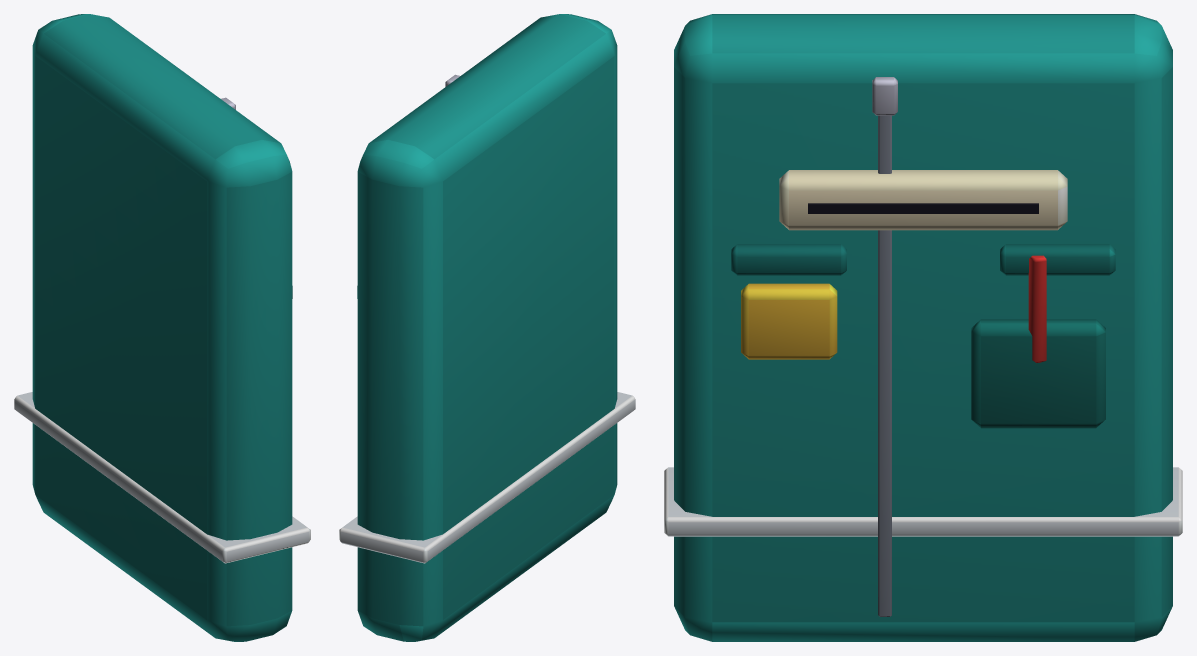
Rendered from SM_Costume_WorkClothes.fbx.
3 views of the same model, side by side, from view 1: azimuth 30°, elevation 25°; view 2: azimuth 150°, elevation 25°; view 3: azimuth 270°, elevation 25° (orthographic). The views are drawn at different scales.
Parts seen in each view (by area): view 1: SM_Costume_WorkClothes; view 2: SM_Costume_WorkClothes; view 3: SM_Costume_WorkClothes.
Part boxes in pixels (bbox=[...]): SM_Costume_WorkClothes: bbox=[14, 14, 310, 641]; SM_Costume_WorkClothes: bbox=[339, 14, 635, 641]; SM_Costume_WorkClothes: bbox=[664, 14, 1182, 641].
Size of the model in its own units: 15.86 by 70.04 by 54.06.
